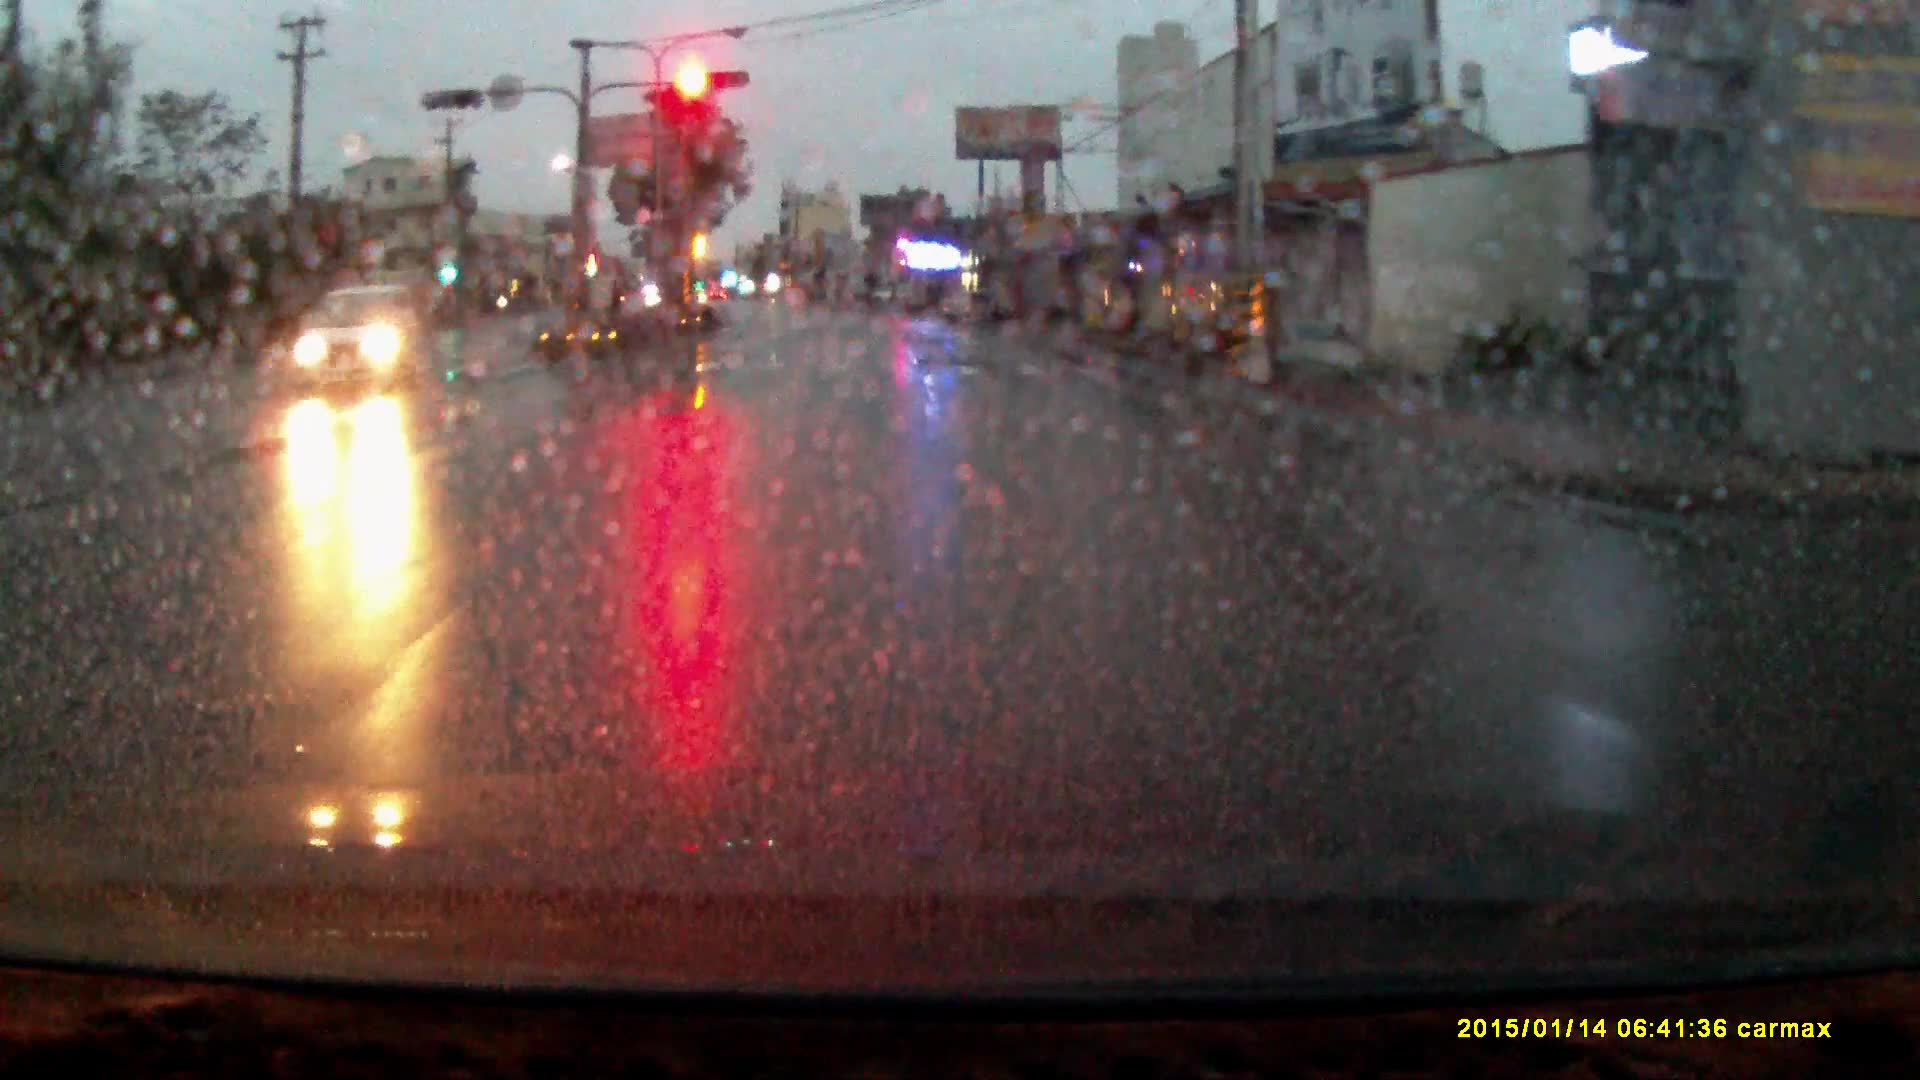vehicle: (289, 287, 423, 401)
